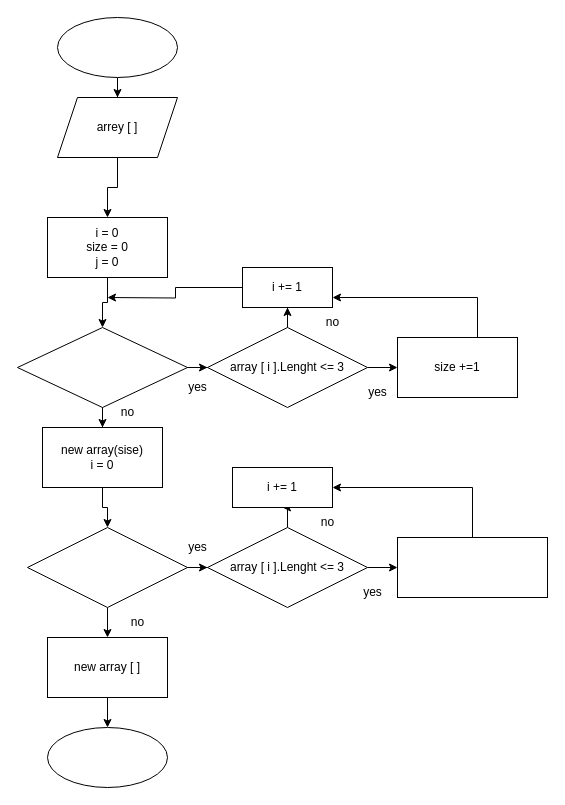
Image size: 565x805. Some labels were removed from this diagram. Each missing label, with the centre of its shape:
End: point 107,757
i < array.Lenght: point 102,367
i = array.Lenght: point 107,567
new array [ j ] = array [ i ] j += i: point 472,567
Start: point 117,47
